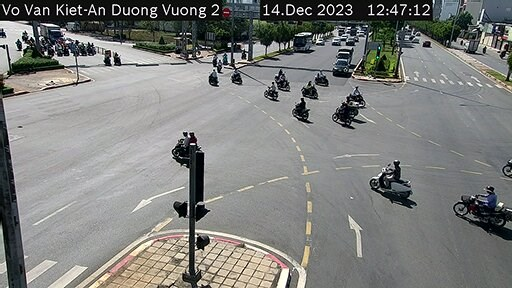car: (295, 30, 311, 56), (337, 56, 354, 79)
motorbike: (468, 181, 507, 232), (369, 158, 411, 197), (340, 80, 372, 110), (333, 91, 360, 125), (299, 78, 322, 100), (313, 69, 334, 91), (293, 97, 310, 121), (275, 73, 290, 96), (271, 67, 289, 85), (503, 152, 512, 181), (264, 82, 277, 102), (229, 69, 244, 85), (207, 69, 217, 88), (219, 52, 228, 70), (206, 52, 216, 65), (113, 53, 123, 65), (213, 59, 222, 70)
truck: (38, 21, 65, 43), (339, 45, 354, 67)
